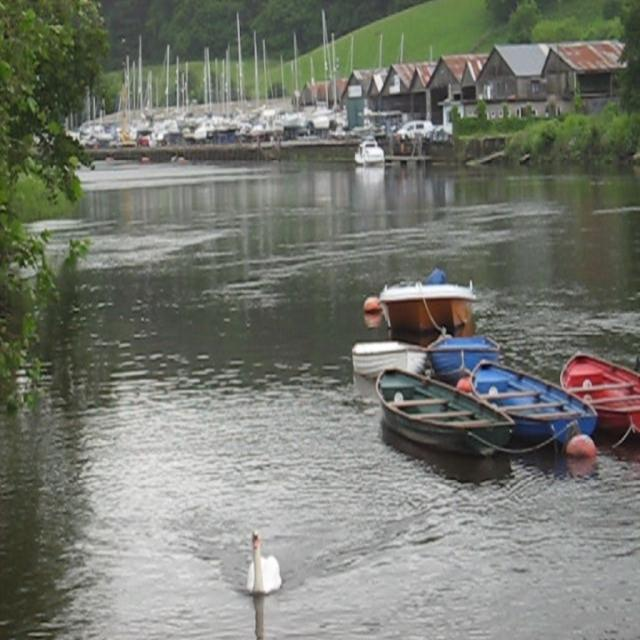Boat: (38, 4, 451, 152), (372, 364, 513, 456), (362, 266, 496, 358), (463, 357, 598, 447), (559, 350, 639, 442), (350, 335, 424, 393), (432, 328, 486, 376)
